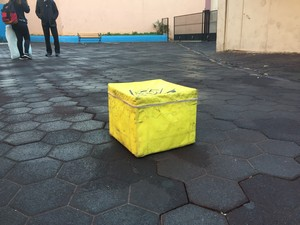cube: (108, 77, 197, 159)
